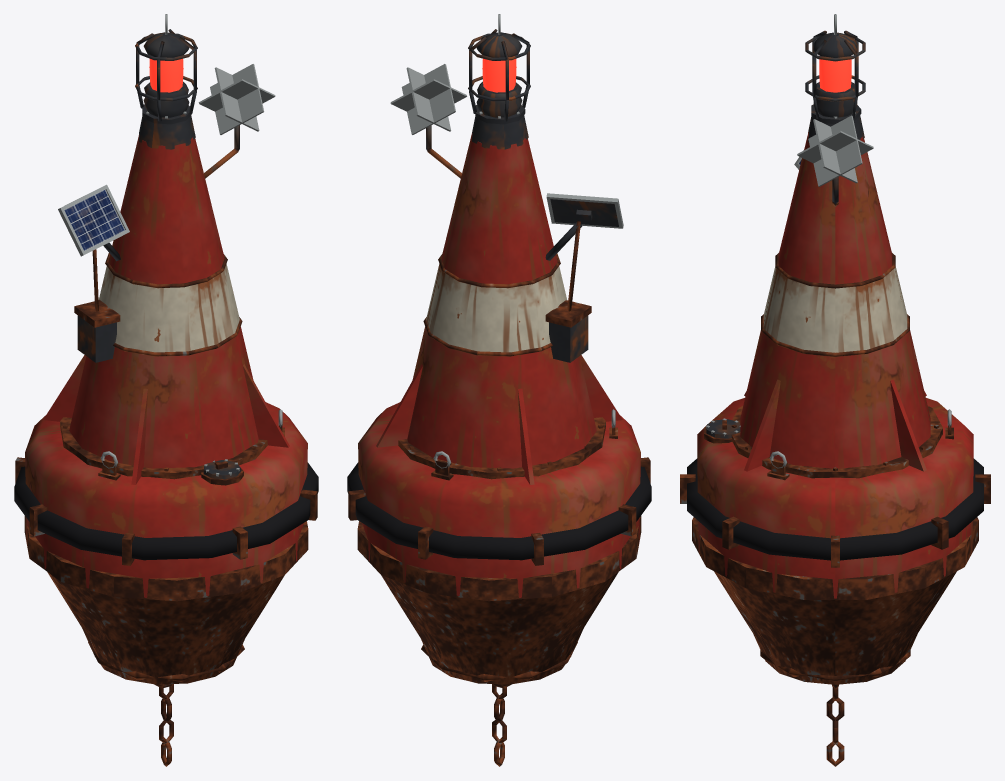
The model's file is buoy_starboard_nun.glb.
3 views of the same model, side by side, from view 1: azimuth 30°, elevation 25°; view 2: azimuth 150°, elevation 25°; view 3: azimuth 270°, elevation 25° (orthographic).
Parts seen in each view (by area): view 1: buoy_starboard_nun; view 2: buoy_starboard_nun; view 3: buoy_starboard_nun.
Part boxes in pixels (x1,y1,x2,y2): buoy_starboard_nun: [14, 14, 318, 766]; buoy_starboard_nun: [347, 14, 651, 766]; buoy_starboard_nun: [680, 14, 990, 766].
Size of the model in its own units: 1.91 by 5.09 by 1.91.
Materials: 9 (5 with a texture image).
